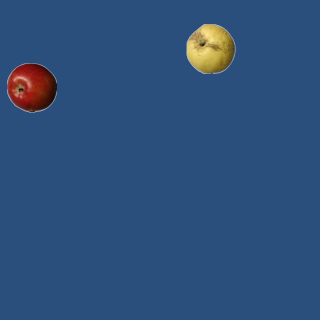Apple Braeburn: (6, 62, 56, 112)
Apple Golden 1: (185, 23, 235, 73)
